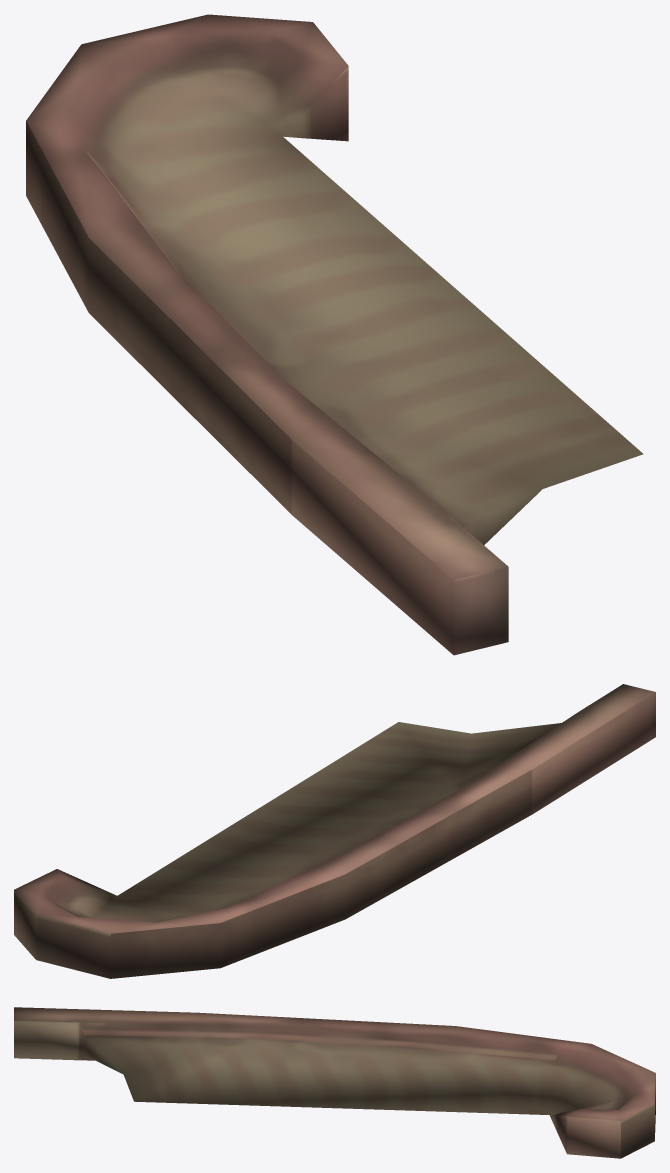
Rendered from Feather_01.fbx.
3 views of the same model, one above another, from view 1: azimuth 30°, elevation 25°; view 2: azimuth 150°, elevation 25°; view 3: azimuth 270°, elevation 25° (orthographic). The views are drawn at different scales.
Parts seen in each view (by area): view 1: Feather_01; view 2: Feather_01; view 3: Feather_01.
Part boxes in pixels (box(x1,y1,x2,y2)): Feather_01: box(26, 14, 643, 655); Feather_01: box(14, 684, 655, 978); Feather_01: box(14, 1007, 655, 1158).
Bounding box in the file's own units: 13.34 × 2.06 × 31.81.
Materials: 1 (1 with a texture image).
